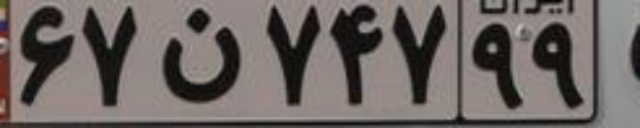4: (325, 4, 381, 105)
6: (21, 3, 73, 106)
7: (78, 2, 141, 108), (391, 3, 452, 106), (262, 3, 322, 107)
9: (467, 22, 523, 110), (528, 21, 584, 108)
non: (160, 6, 244, 104)
